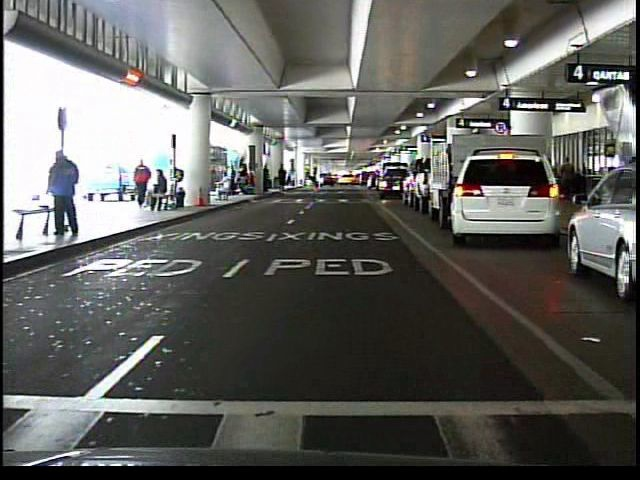person: (48, 144, 88, 237), (213, 170, 233, 205), (307, 163, 322, 192)
